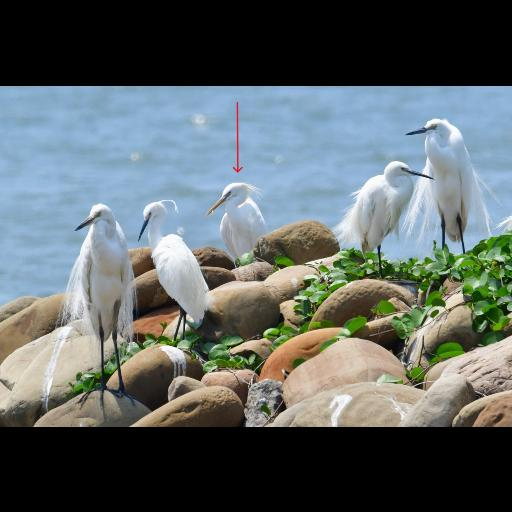chinese_egret: (206, 180, 270, 264)
